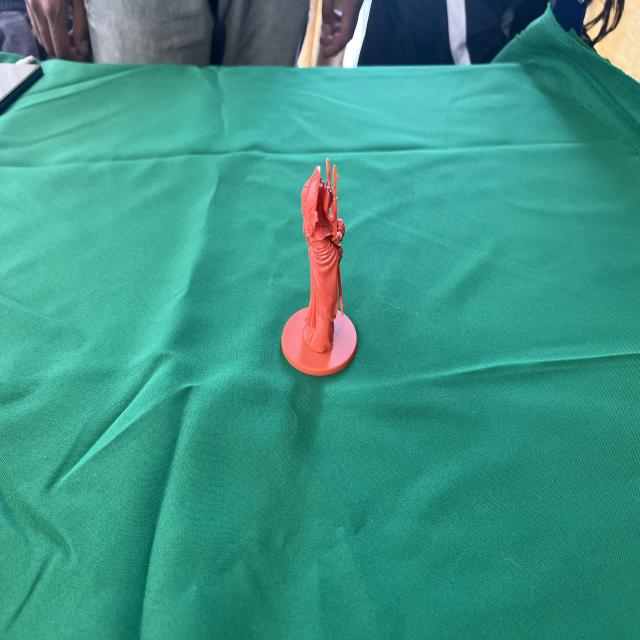amon: (276, 153, 360, 384)
